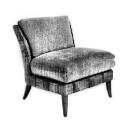chair_success: (4, 12, 120, 120)
